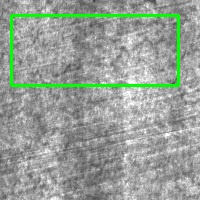crazing: (11, 15, 178, 85)
